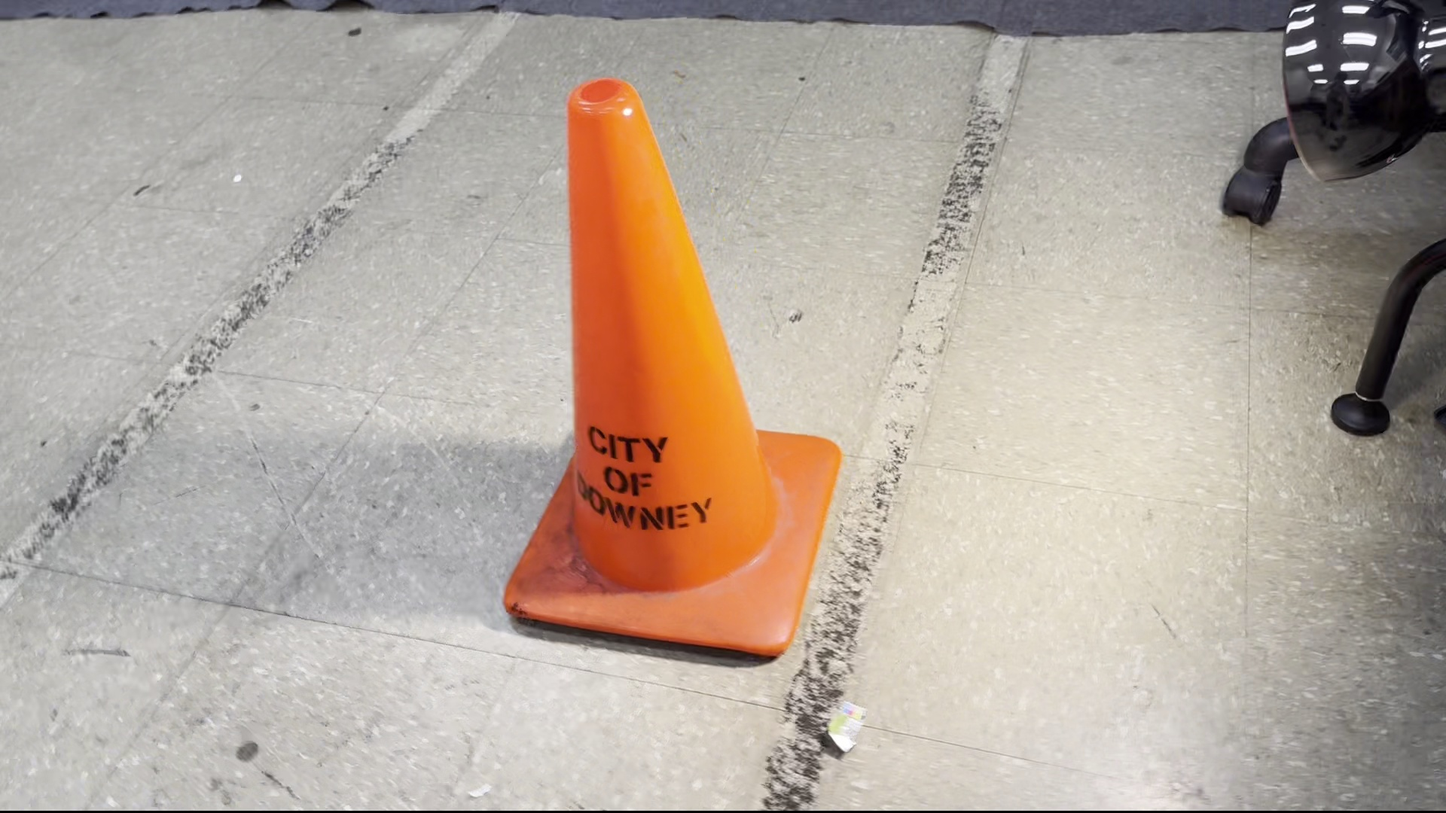traffic_cone: (501, 76, 842, 659)
